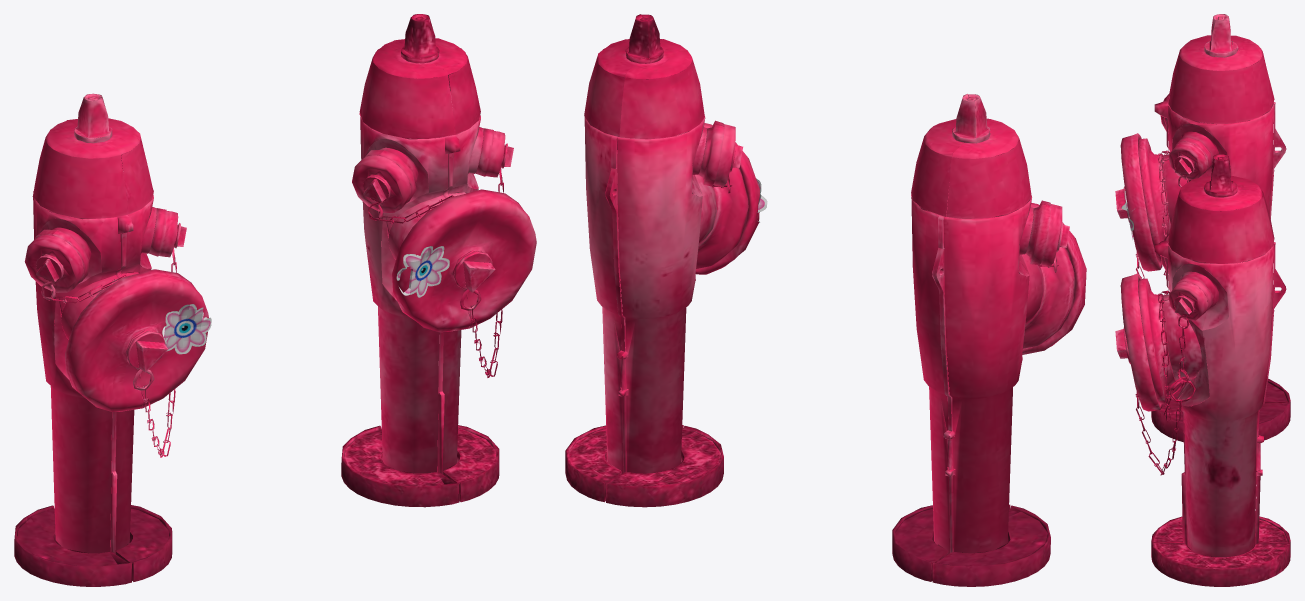
Rendered from nyb_hydrant_pink.glb.
3 views of the same model, side by side, from view 1: azimuth 30°, elevation 25°; view 2: azimuth 150°, elevation 25°; view 3: azimuth 270°, elevation 25° (orthographic). The views are drawn at different scales.
Parts seen in each view (by area): view 1: fire_hydrant, stk_eyeflower_die.png, stk_eyeflower_die.png.001; view 2: fire_hydrant; view 3: fire_hydrant.
Part boxes in pixels (box(x1,y1,x2,y2)): fire_hydrant: box(14, 14, 536, 586); stk_eyeflower_die.png: box(162, 304, 211, 354); stk_eyeflower_die.png.001: box(396, 246, 449, 297); fire_hydrant: box(565, 14, 1086, 586); fire_hydrant: box(1115, 14, 1290, 586).
Size of the model in its own units: 0.8738 by 0.8004 by 0.3173.
Materials: 4 (4 with a texture image).
